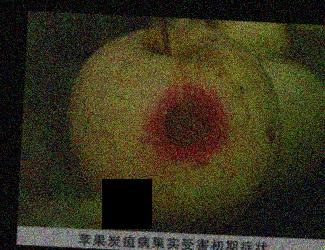rotten apple: (66, 24, 284, 227)
